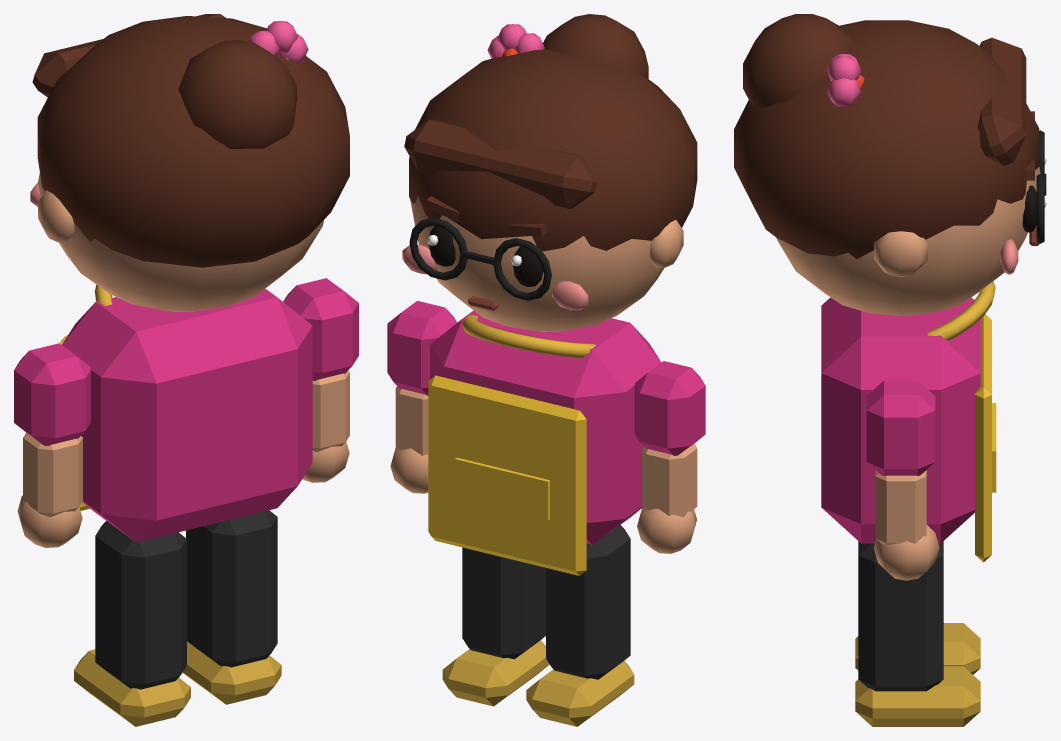
Rendered from jeh_hong.glb.
3 renders of one model, left to right at view 1: azimuth 30°, elevation 25°; view 2: azimuth 150°, elevation 25°; view 3: azimuth 270°, elevation 25°, orthographic. The views are drawn at different scales.
Parts seen in each view (by area): view 1: HeadMesh, TorsoMesh, LegLMesh, LegRMesh, ArmLMesh, ArmRMesh; view 2: HeadMesh, TorsoMesh, LegLMesh, LegRMesh, ArmLMesh, ArmRMesh; view 3: HeadMesh, TorsoMesh, LegRMesh, ArmRMesh, LegLMesh.
Part boxes in pixels (x1,y1,x2,y2): HeadMesh: [30, 14, 349, 311]; TorsoMesh: [60, 284, 312, 542]; LegLMesh: [74, 521, 190, 726]; LegRMesh: [182, 510, 281, 704]; ArmLMesh: [14, 343, 90, 547]; ArmRMesh: [283, 278, 358, 482]; HeadMesh: [402, 14, 697, 331]; TorsoMesh: [428, 310, 661, 575]; LegLMesh: [526, 525, 634, 726]; LegRMesh: [442, 547, 549, 706]; ArmLMesh: [634, 361, 705, 553]; ArmRMesh: [387, 301, 457, 493]; HeadMesh: [734, 14, 1046, 315]; TorsoMesh: [821, 281, 996, 562]; LegRMesh: [855, 541, 980, 726]; ArmRMesh: [866, 380, 939, 580]; LegLMesh: [855, 623, 980, 674].
Bounding box in the file's own units: 0.65 × 1.31 × 0.5489.
